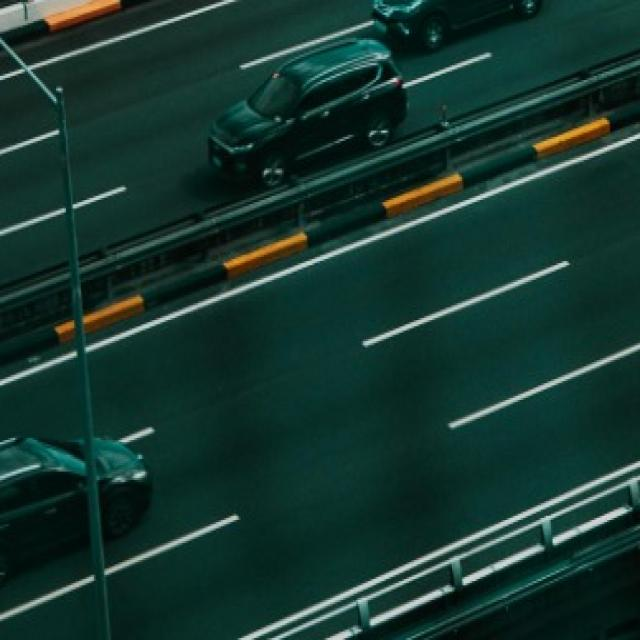car: (205, 38, 411, 190), (0, 428, 152, 590), (371, 0, 559, 42)
